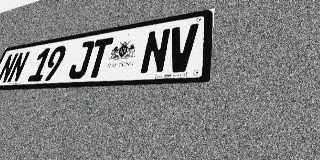1: (27, 47, 53, 82)
9: (41, 45, 68, 81)
J: (67, 40, 95, 79)
N: (139, 28, 171, 75), (6, 51, 31, 83), (0, 53, 19, 84)
T: (84, 37, 114, 78)
V: (165, 23, 199, 73)
